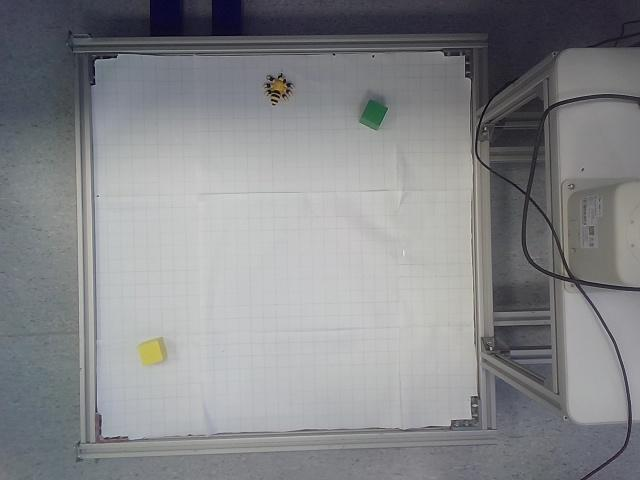frelon: (263, 73, 295, 106)
